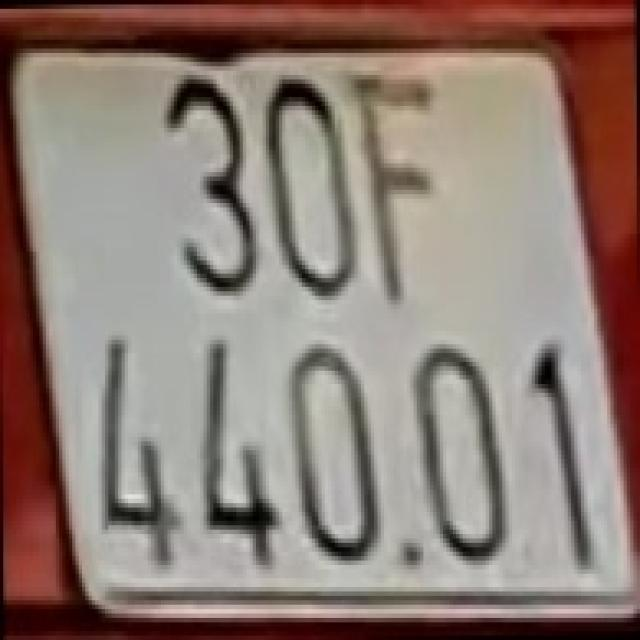0: (287, 338, 386, 562), (414, 338, 512, 562), (268, 69, 360, 302)
1: (528, 344, 600, 570)
3: (159, 71, 261, 300)
4: (195, 333, 278, 572), (95, 331, 177, 569)
F: (358, 70, 443, 304)
